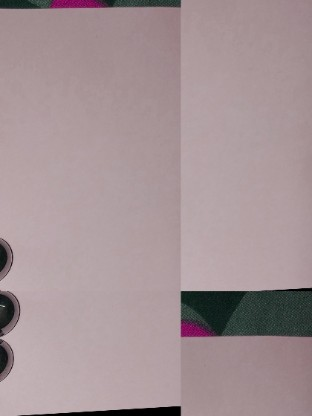ironball: (0, 284, 23, 338), (0, 334, 19, 384), (0, 235, 17, 284)
